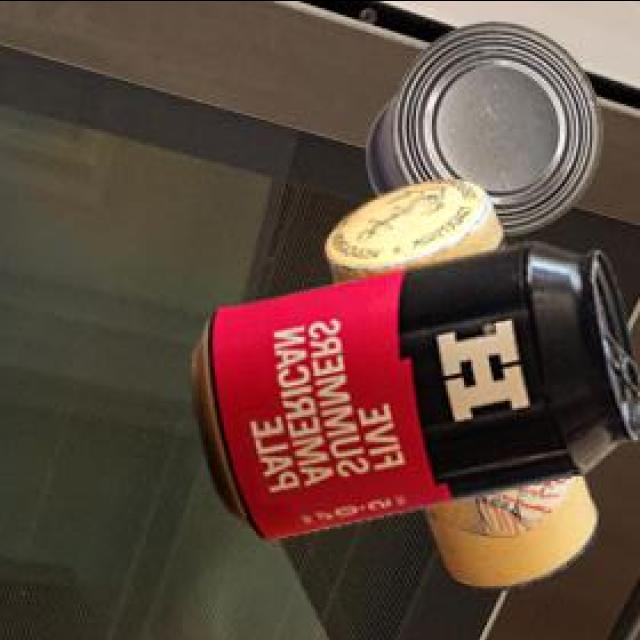logam: (189, 239, 639, 536), (321, 175, 595, 586), (365, 17, 598, 230)
